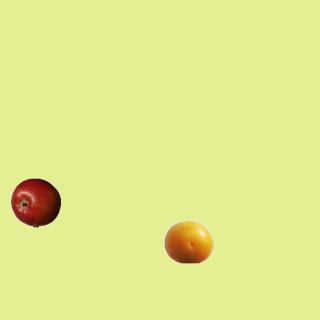Apple Braeburn: (10, 177, 60, 227)
Cherry Wax Yellow: (163, 216, 213, 266)
